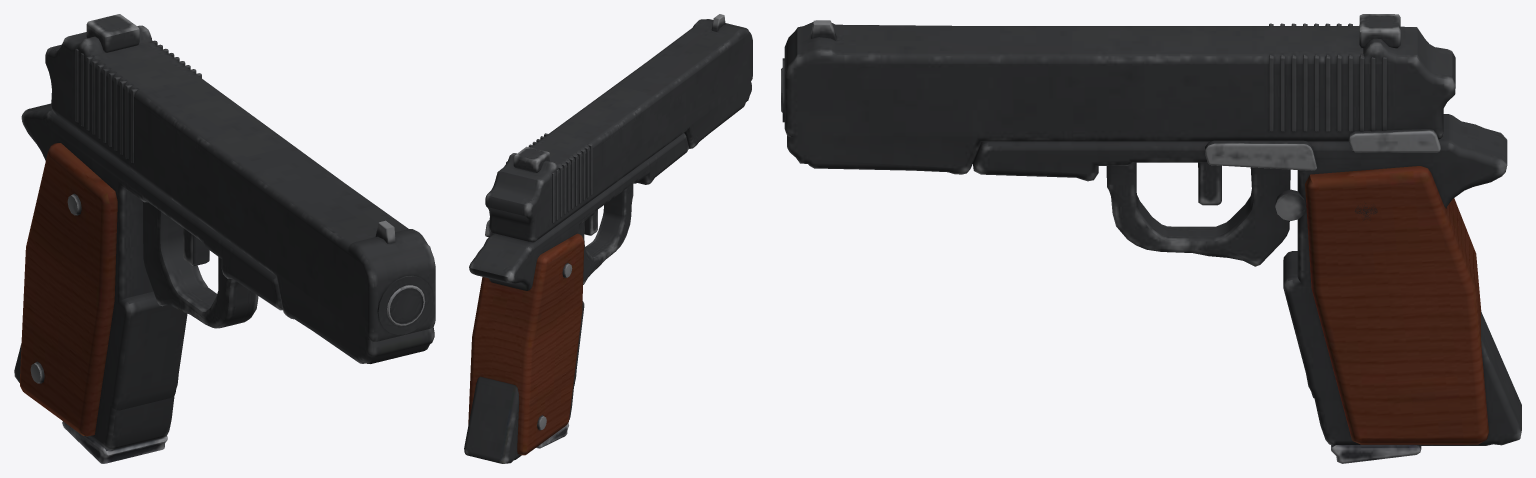
File: pistol_p1911.glb
3 renders of one model, left to right at view 1: azimuth 30°, elevation 25°; view 2: azimuth 150°, elevation 25°; view 3: azimuth 270°, elevation 25°, orthographic. The views are drawn at different scales.
Parts seen in each view (by area): view 1: body, slide_mesh, mag_mesh; view 2: body, slide_mesh; view 3: slide_mesh, body, mag_mesh.
Boxes of the visible parts, x1,y1,x2,y2 form: body: (14,103,433,449); slide_mesh: (45,14,435,363); mag_mesh: (62,421,167,463); body: (464,133,688,463); slide_mesh: (485,14,752,242); slide_mesh: (784,14,1455,174); body: (781,58,1521,445); mag_mesh: (1331,445,1421,463).
Size of the model in its own units: 0.0315 by 0.1374 by 0.2158.
Materials: 1 (1 with a texture image).
